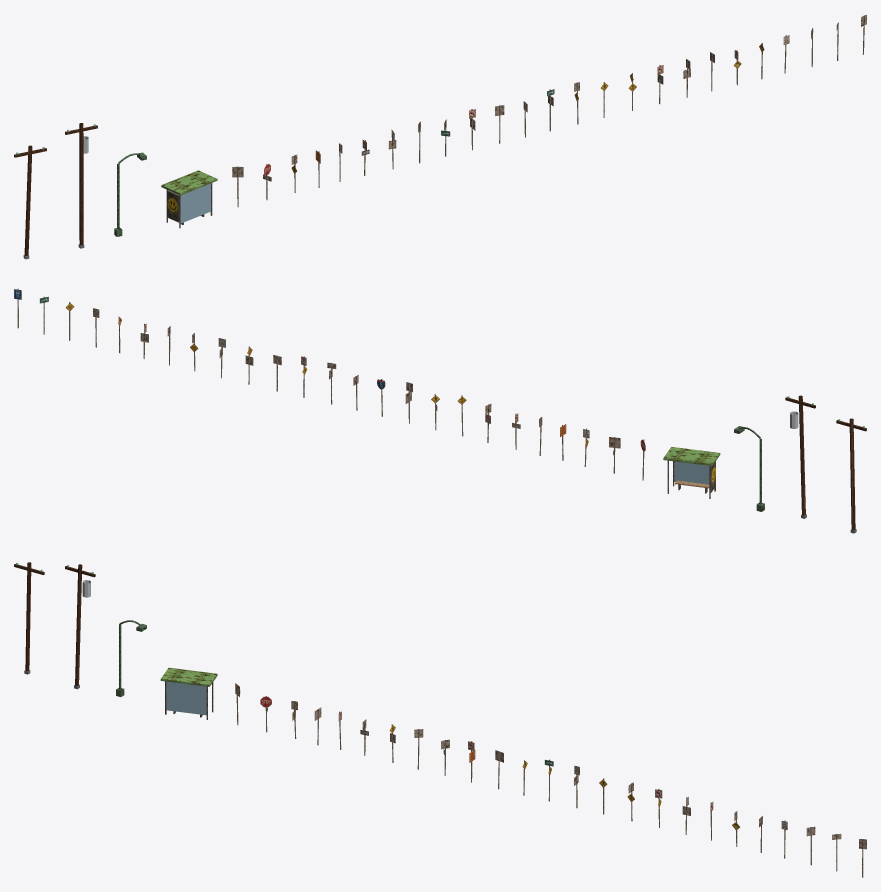
The model's file is street_furniture.glb.
3 views of the same model, one above another, from view 1: azimuth 30°, elevation 25°; view 2: azimuth 150°, elevation 25°; view 3: azimuth 330°, elevation 25° (orthographic).
Parts seen in each view (by area): view 1: bus_stop, telephone_pole_transformer, telephone_pole; view 2: bus_stop, telephone_pole_transformer, telephone_pole; view 3: bus_stop, telephone_pole_transformer, telephone_pole.
Part boxes in pixels (x1,y1,x2,y2): bus_stop: (161, 170, 217, 228); telephone_pole_transformer: (65, 123, 97, 248); telephone_pole: (14, 145, 46, 259); bus_stop: (663, 447, 720, 498); telephone_pole_transformer: (785, 395, 815, 518); telephone_pole: (836, 418, 866, 533); bus_stop: (160, 667, 217, 719); telephone_pole_transformer: (65, 564, 95, 689); telephone_pole: (14, 562, 44, 674).
Bounding box in the file's own units: 63.65 × 8.72 × 2.52.
9 materials, 6 textured.
